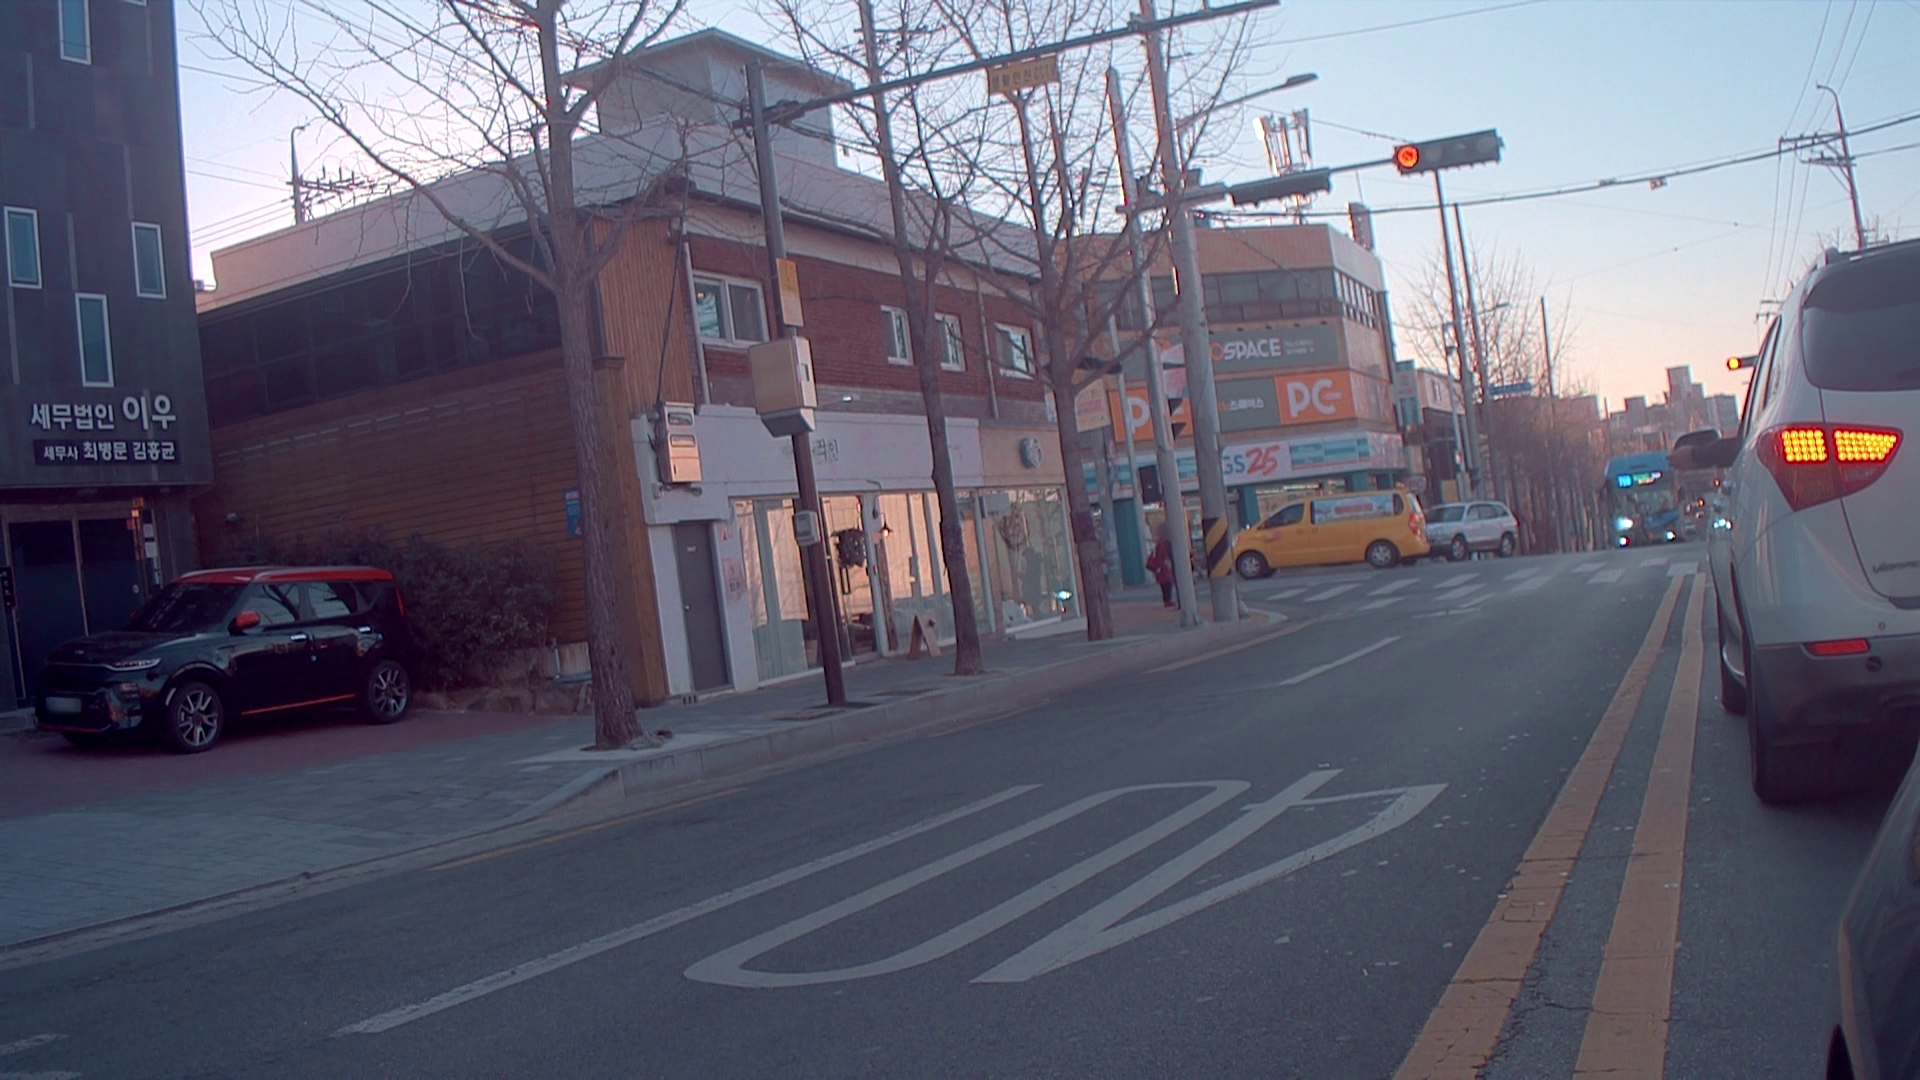trafficLight: (1391, 128, 1505, 175)
